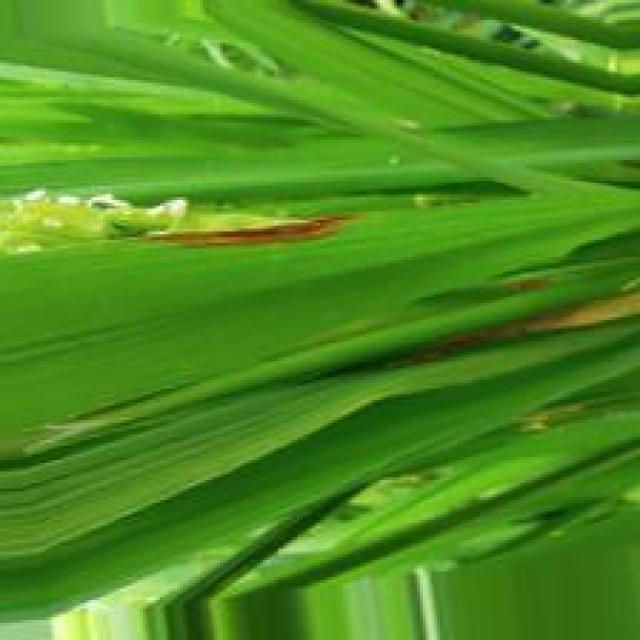Leaf_Blast: (134, 213, 364, 252)
